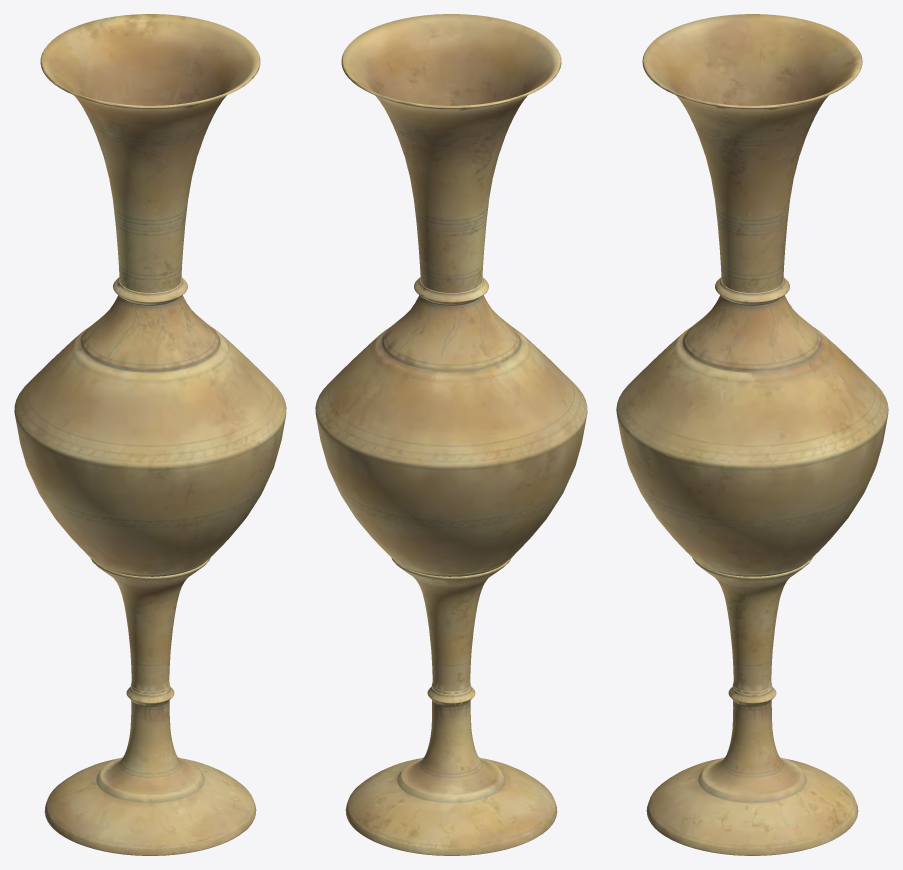
The model's file is brass_vase_01.glb.
3 views of the same model, side by side, from view 1: azimuth 30°, elevation 25°; view 2: azimuth 150°, elevation 25°; view 3: azimuth 270°, elevation 25° (orthographic).
Visible parts, largest first — view 1: brass_vase_01; view 2: brass_vase_01; view 3: brass_vase_01.
Boxes of the visible parts, bbox=[...] form: brass_vase_01: bbox=[14, 14, 286, 855]; brass_vase_01: bbox=[315, 14, 587, 855]; brass_vase_01: bbox=[616, 14, 888, 855].
Size of the model in its own units: 0.2273 by 0.6925 by 0.2273.
1 material, 1 textured.
